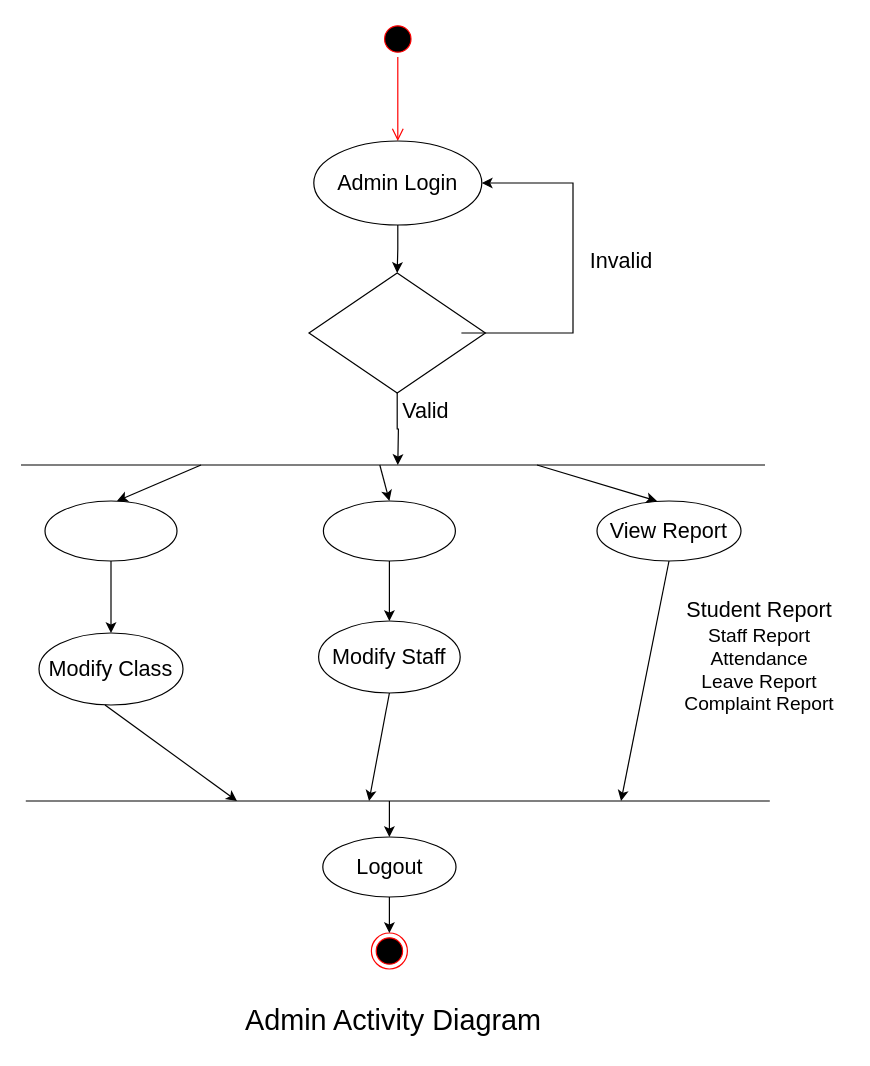
Some shapes in this 870 by 1066 pixel diagram are drawn without their labels. The centre of each missing label's shape, as x and y in pixels:
Add Class: the point at 110,530
Add Staff: the point at 388,530
Authentication: the point at 396,332
